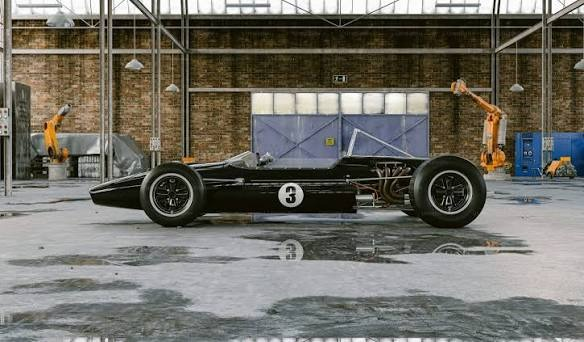car: (86, 96, 499, 223)
